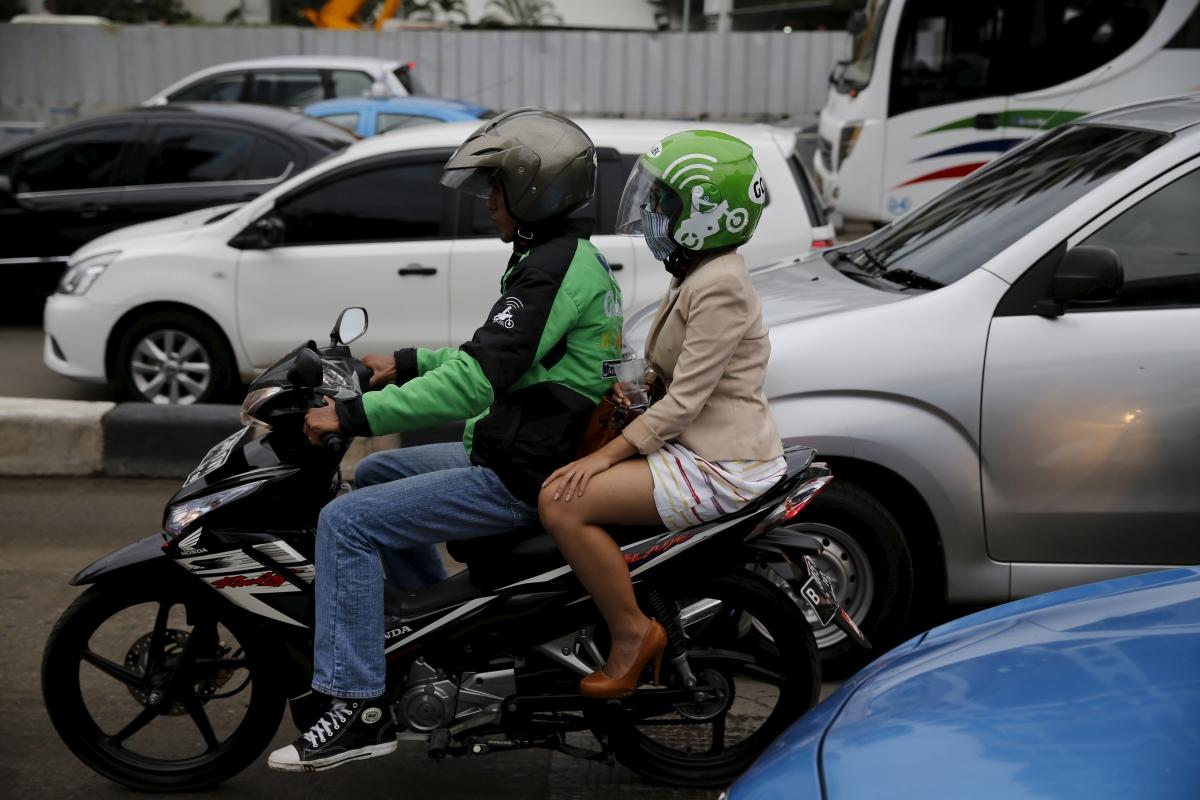helmet: (427, 77, 612, 258), (620, 117, 783, 277)
